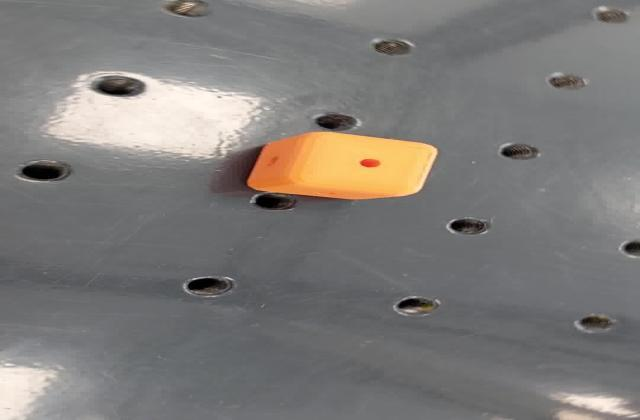cube: (236, 132, 443, 202)
